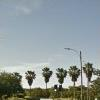Palm tree: (22, 61, 76, 95)
